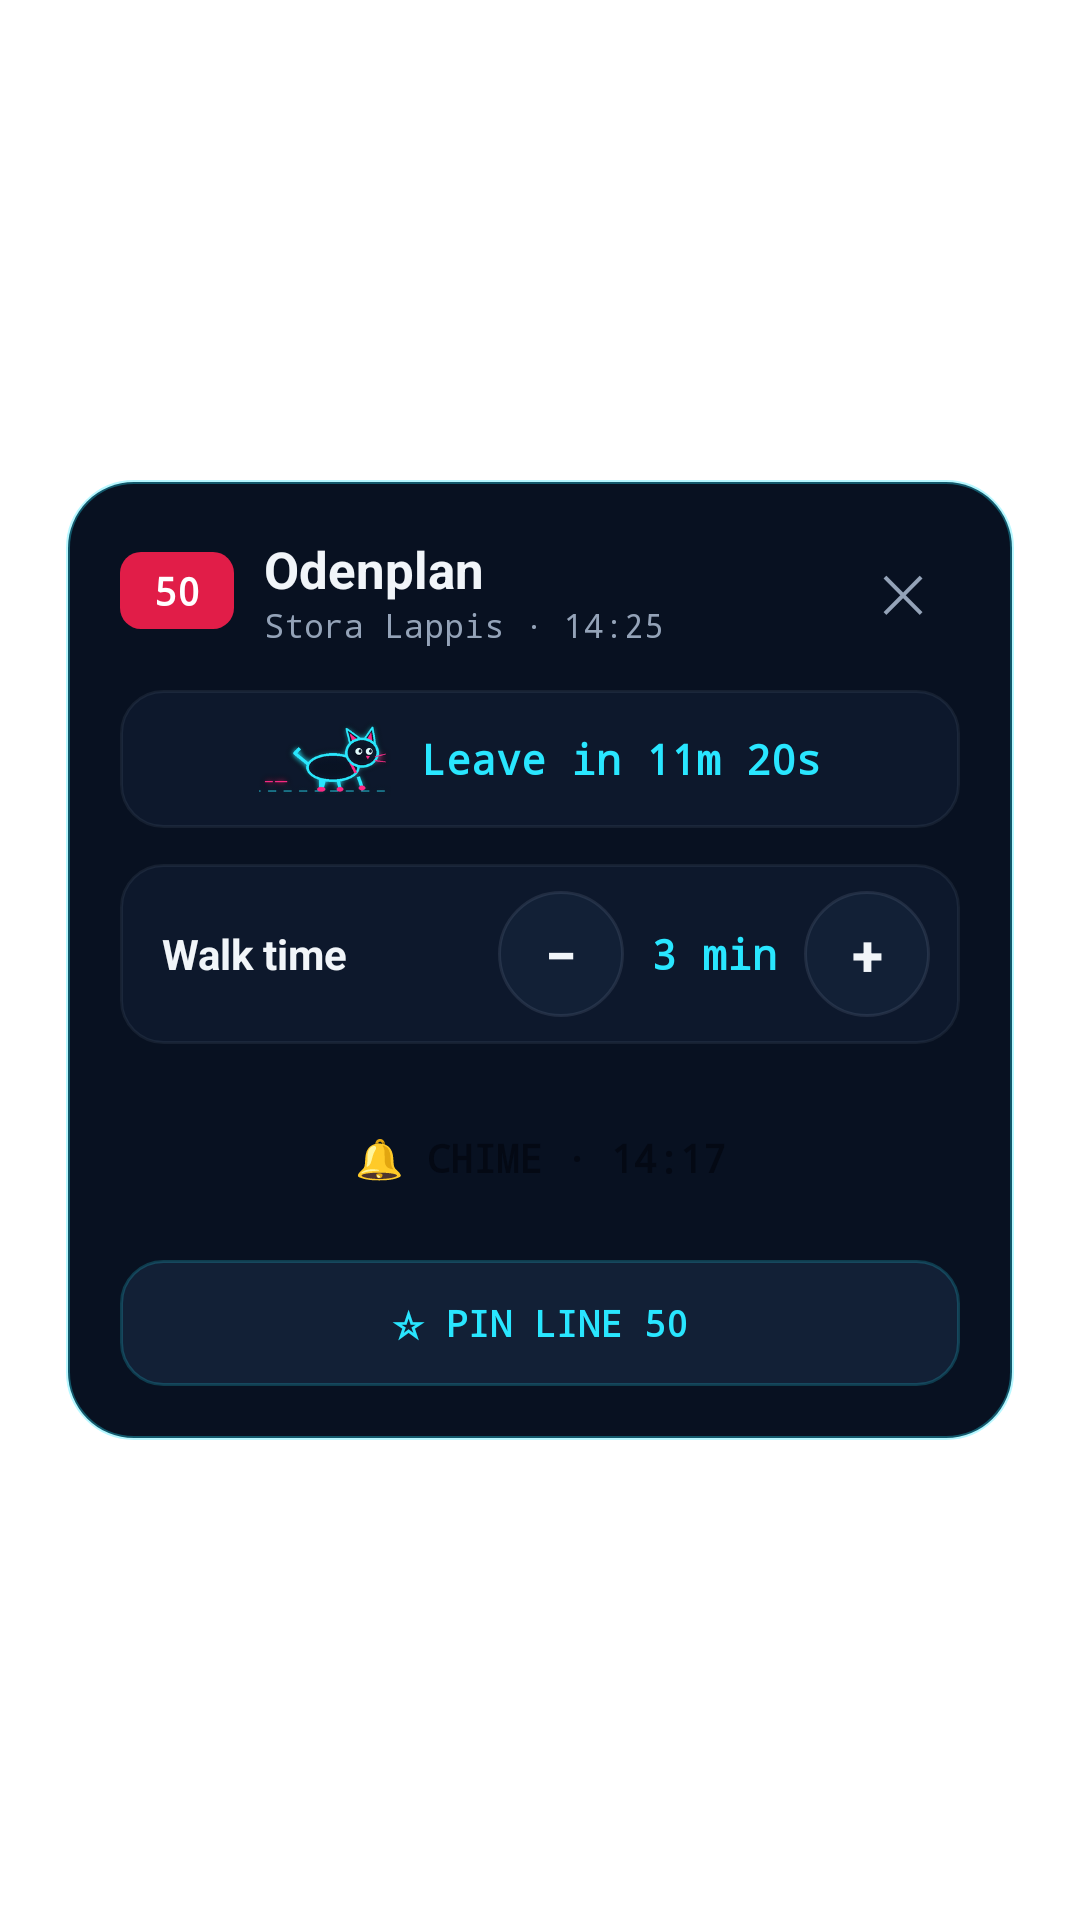

Locate icon controls on the screen. Image size 1080w x 1920h, boxes as (x1, y1, x2, y2).
cat hurry: (259, 726, 386, 792)
